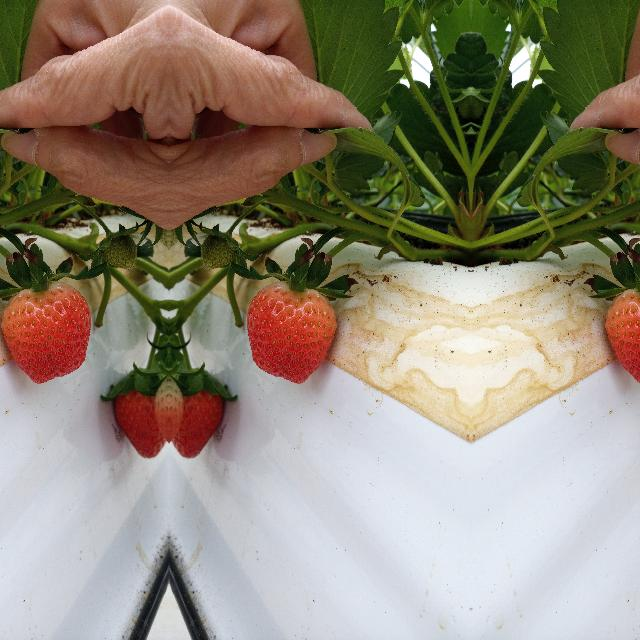Health_100: (244, 280, 336, 384), (0, 280, 91, 384), (605, 280, 640, 384)
Health_75: (168, 374, 218, 460), (118, 374, 168, 460)
